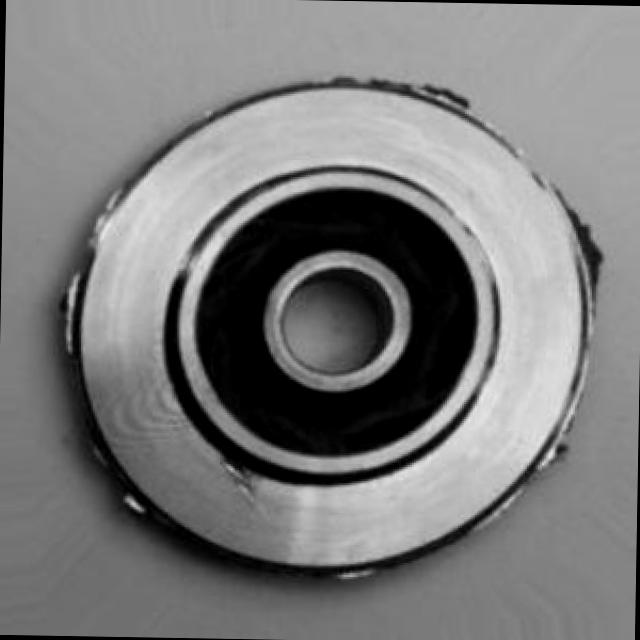Defect: (557, 190, 626, 291)
